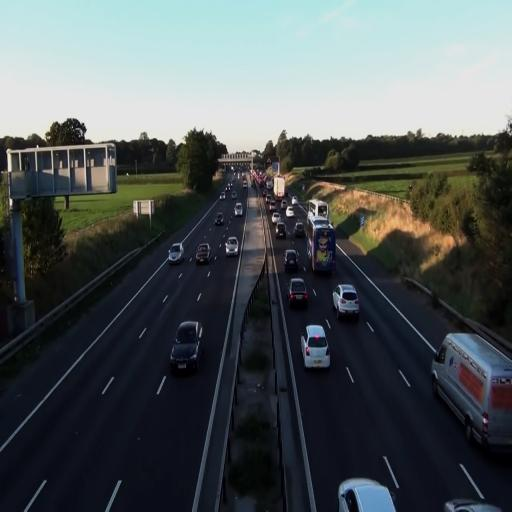vehicle: (430, 329, 512, 457), (430, 329, 512, 456), (337, 477, 397, 512), (170, 320, 202, 374), (310, 222, 338, 275), (301, 324, 330, 370), (332, 284, 360, 322), (288, 277, 308, 309), (284, 249, 299, 274), (168, 243, 184, 264), (224, 235, 240, 256), (196, 242, 210, 265), (274, 215, 287, 237), (292, 220, 307, 239)
